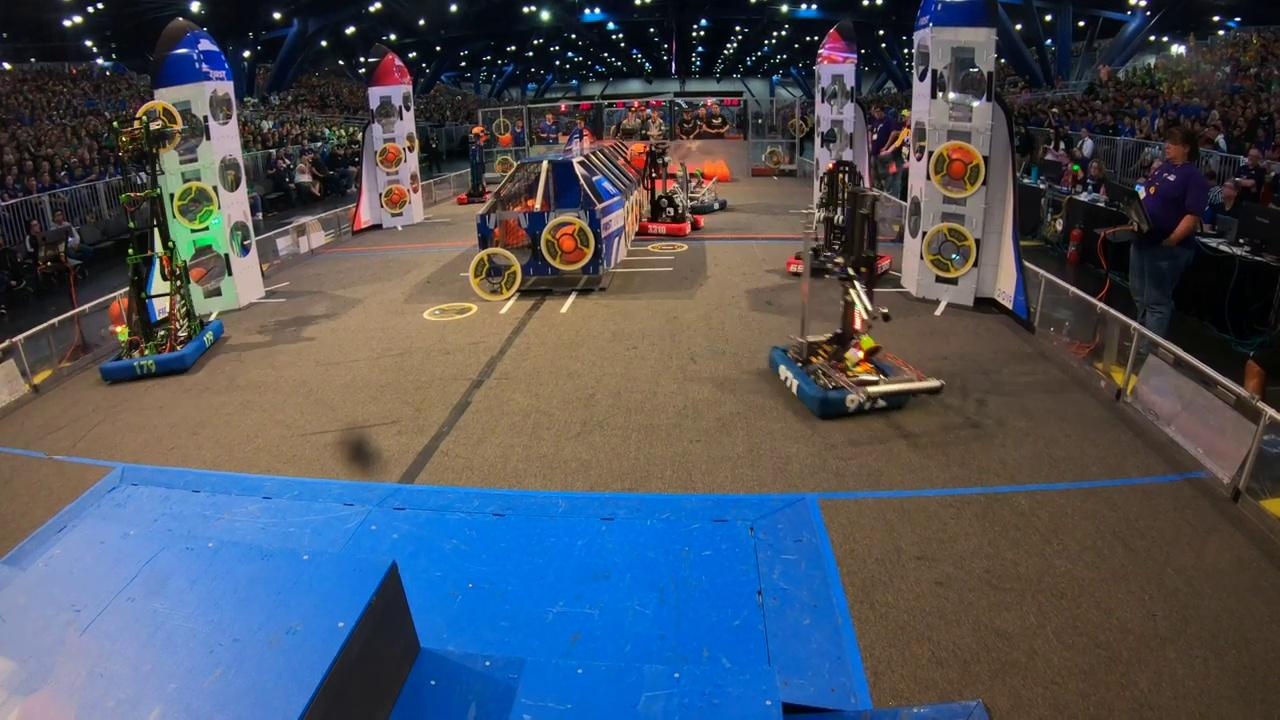robot: (767, 190, 950, 423), (88, 115, 228, 385), (632, 177, 708, 236), (668, 176, 727, 215)
